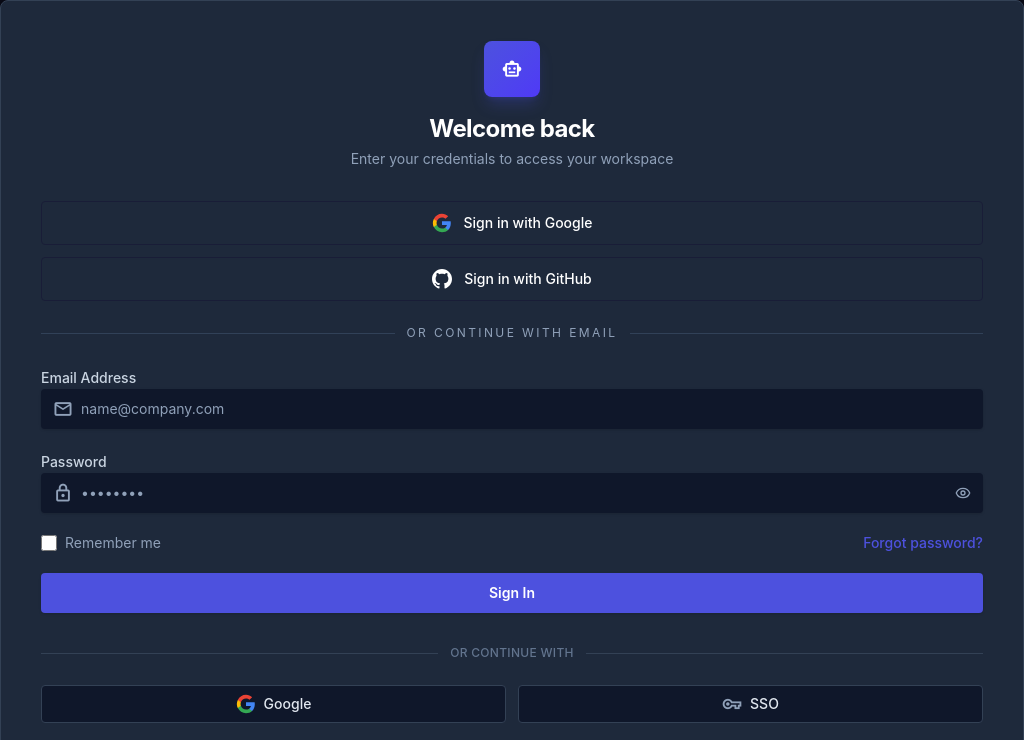
LoginForm › displays error message when login fails
The width and height of the screenshot is (1024, 740).
Type "jane@example.com" into the field labelled "Email Address". click: (512, 409)
box: [41, 389, 983, 429]
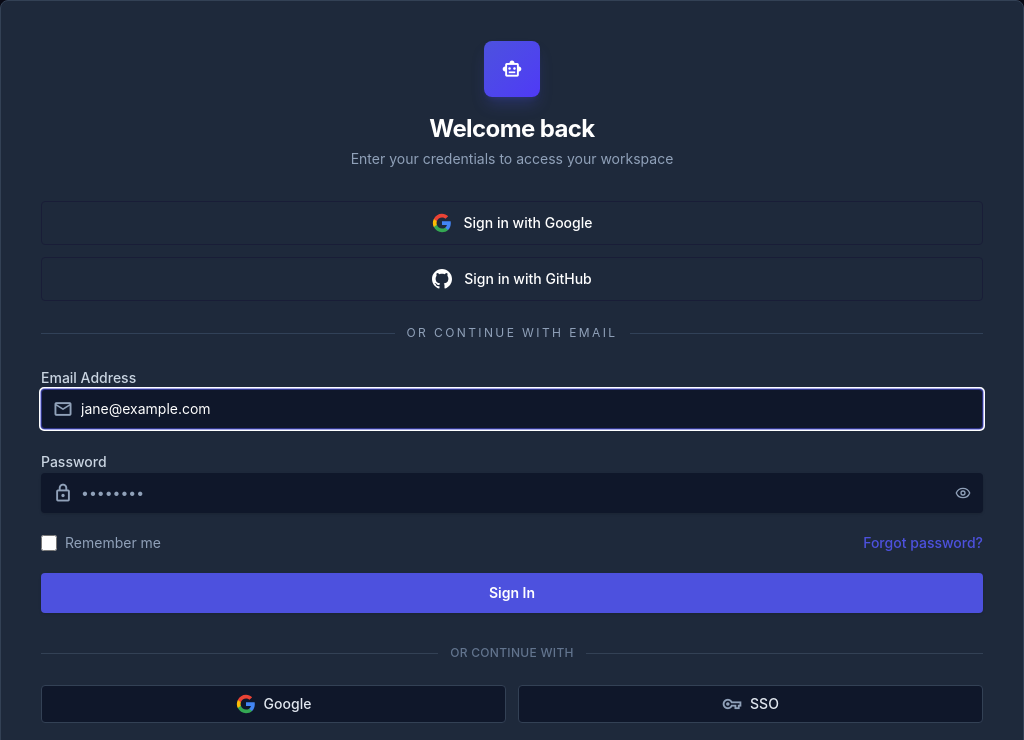
Type "WrongPass!" into the password field labelled "Password". click: (512, 493)
box: [41, 473, 983, 513]
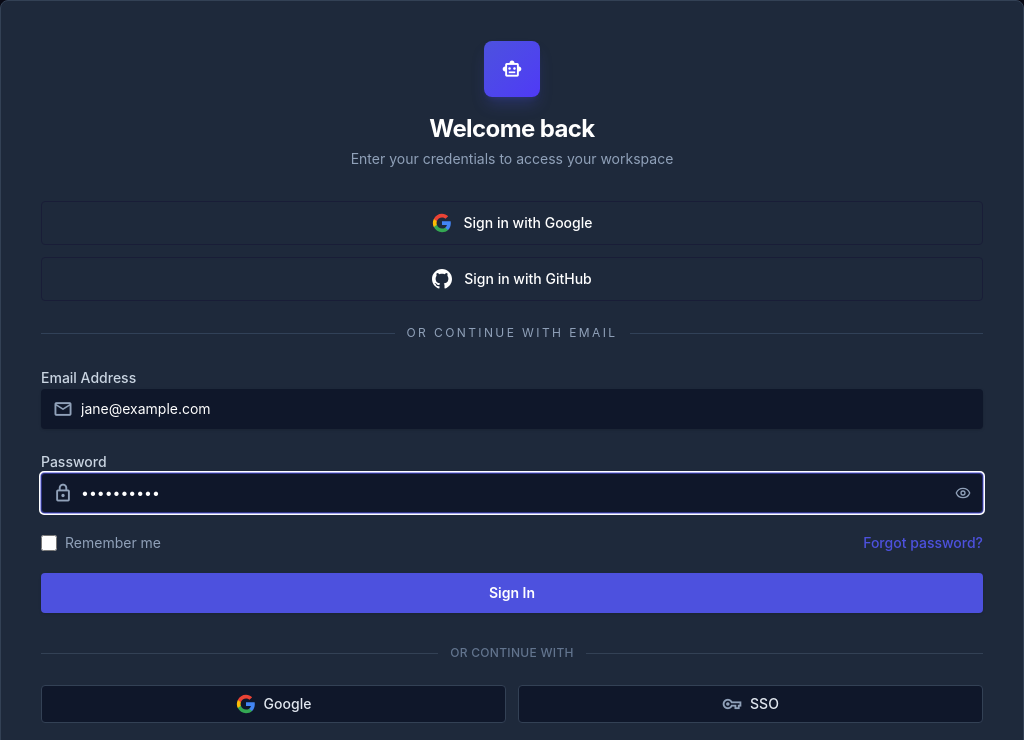
Click the button "Sign In". click: (512, 593)
box: [41, 573, 983, 613]
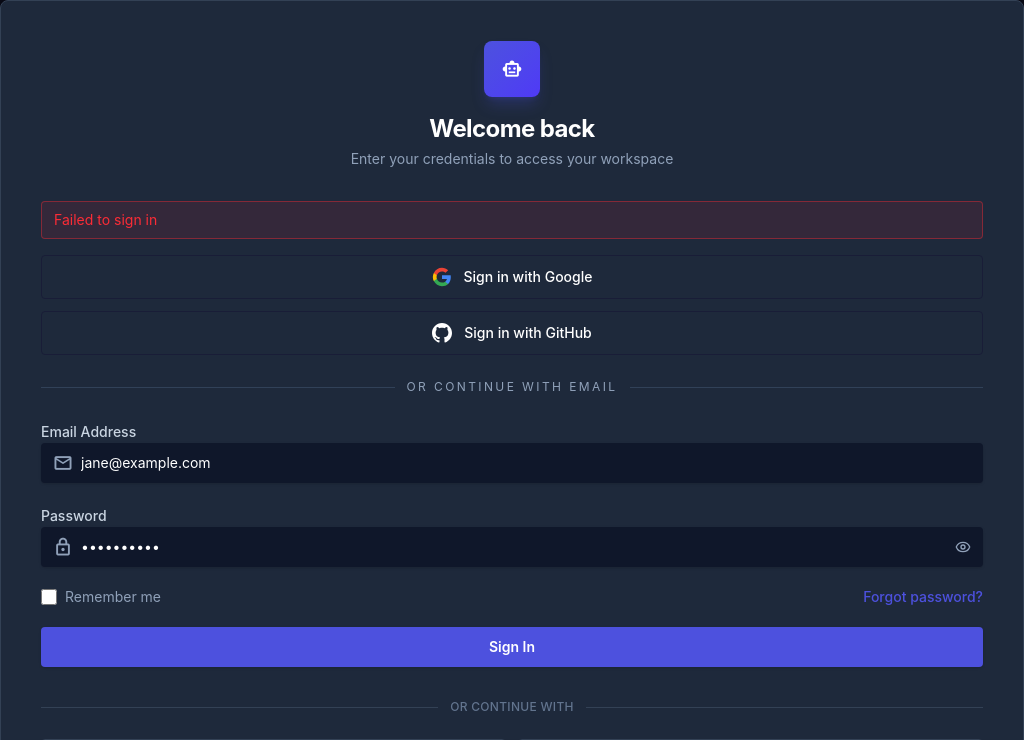
Result: the message reads "Failed to sign in" at [54, 211, 157, 228]
